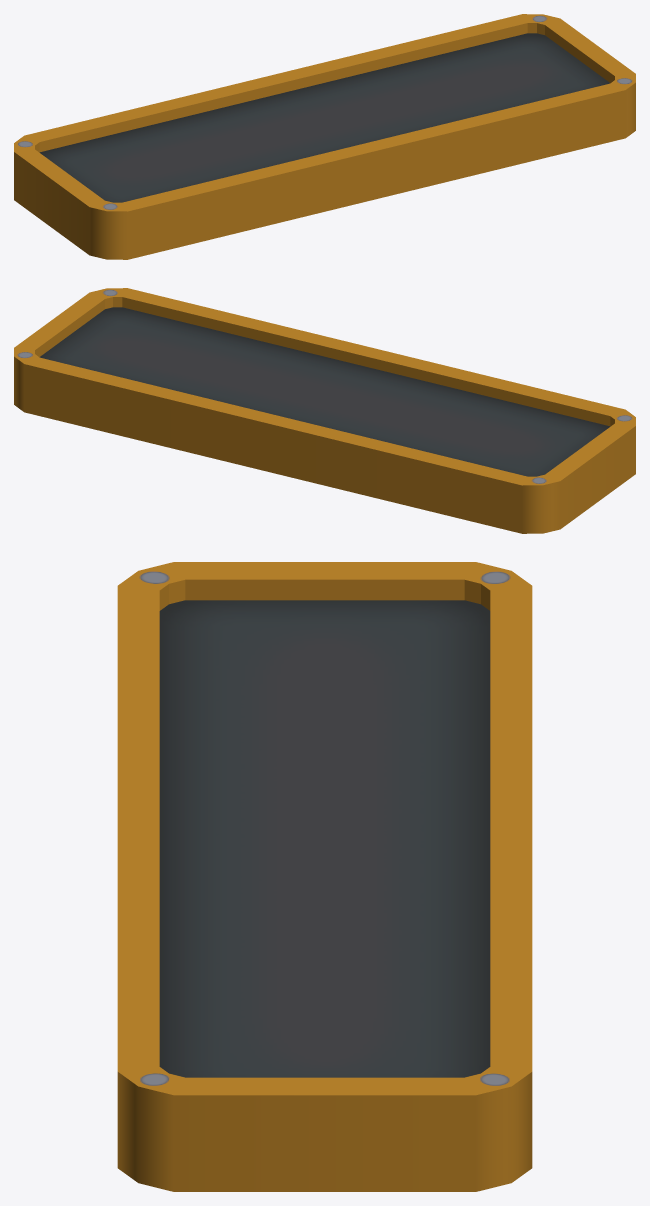
The model's file is obj_building_elevatorlamp_off.fbx.
The picture shows the model from 3 angles, top to bottom: view 1: azimuth 30°, elevation 25°; view 2: azimuth 150°, elevation 25°; view 3: azimuth 270°, elevation 25°; orthographic projection. The views are drawn at different scales.
Visible parts, largest first — view 1: polySurface1872; view 2: polySurface1872; view 3: polySurface1872.
Boxes of the visible parts, box(x1,y1,x2,y2) form: polySurface1872: box(14, 14, 635, 259); polySurface1872: box(14, 288, 635, 533); polySurface1872: box(117, 562, 532, 1191).
Bounding box in the file's own units: 6 × 0.5073 × 1.97.
